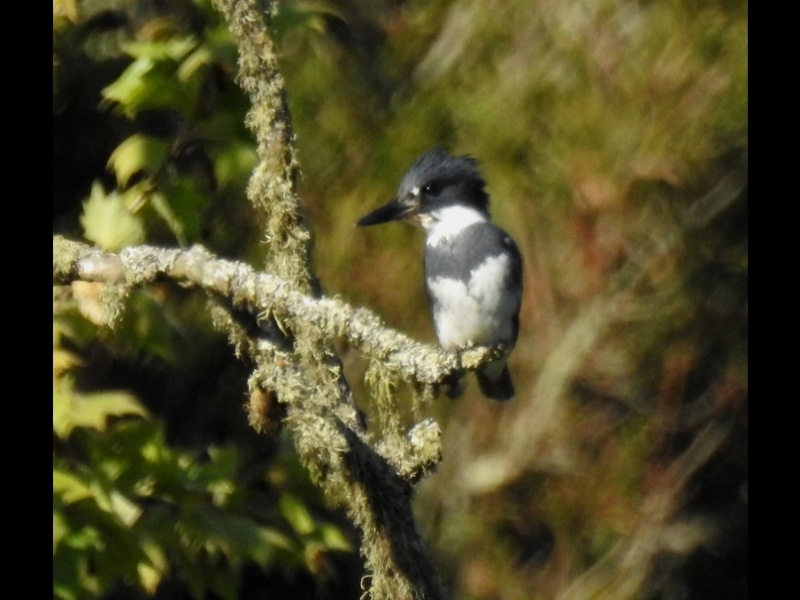kingfisher: (354, 154, 526, 404)
